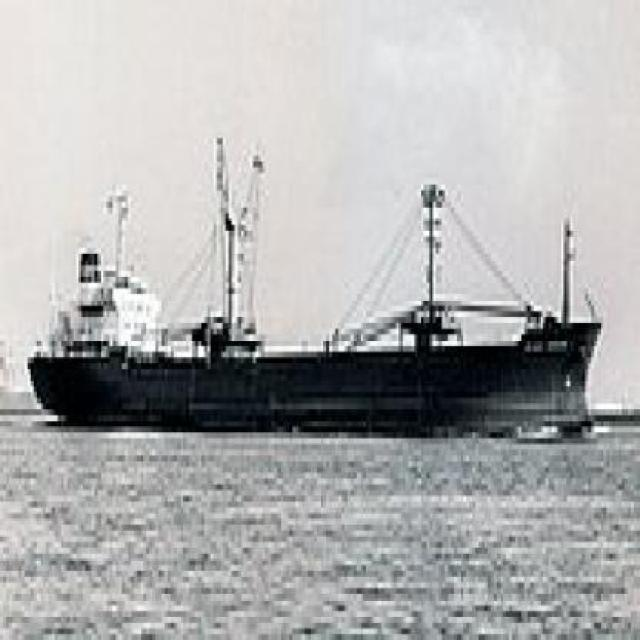container: (22, 105, 611, 474)
